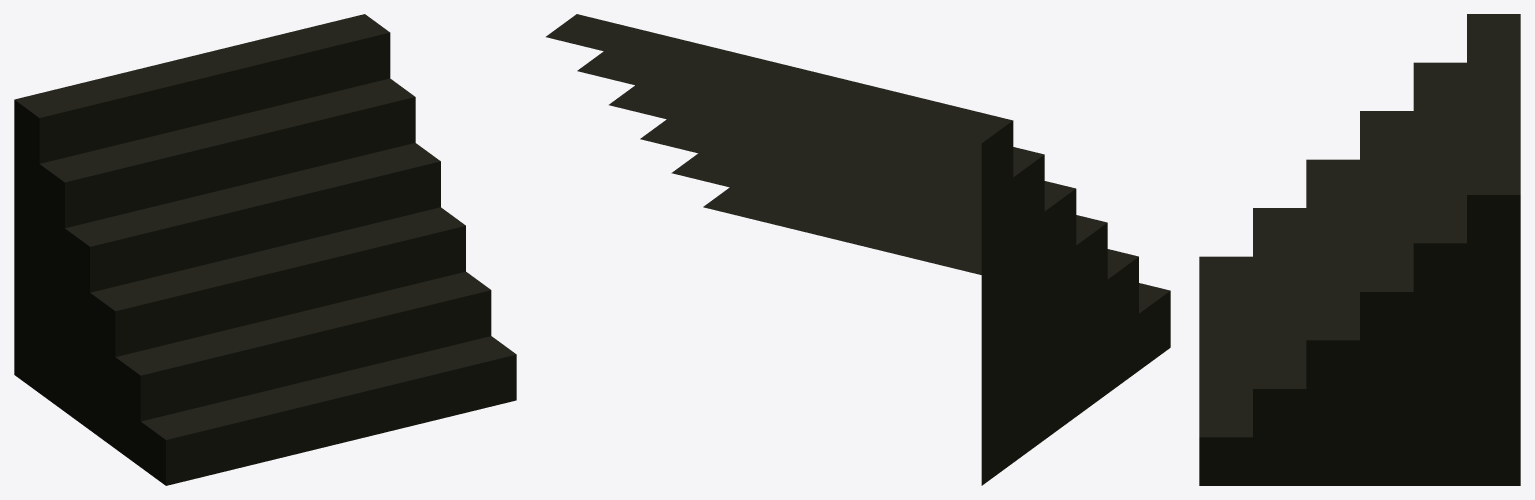
The model's file is DoorStairs.gltf.
3 renders of one model, left to right at view 1: azimuth 30°, elevation 25°; view 2: azimuth 150°, elevation 25°; view 3: azimuth 270°, elevation 25°, orthographic. The views are drawn at different scales.
Parts seen in each view (by area): view 1: DoorStairs; view 2: DoorStairs; view 3: DoorStairs.
Part boxes in pixels (bbox=[...]): DoorStairs: bbox=[14, 14, 516, 485]; DoorStairs: bbox=[546, 14, 1170, 485]; DoorStairs: bbox=[1199, 14, 1520, 485].
Size of the model in its own units: 1 by 0.75 by 0.75.
1 material, 1 textured.
